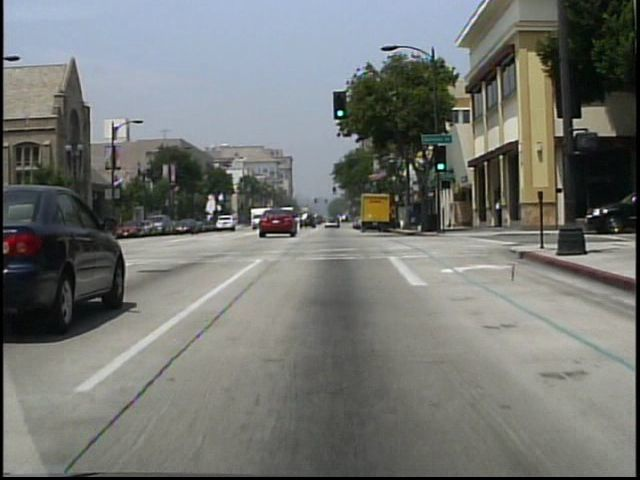person: (492, 195, 503, 229)
